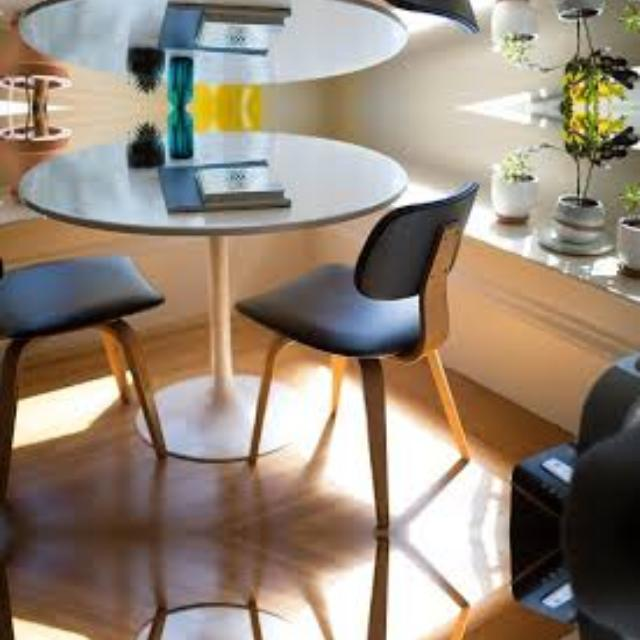obstacle: (262, 179, 518, 473), (11, 114, 412, 236), (10, 0, 411, 100), (262, 593, 517, 640), (262, 0, 517, 35)
